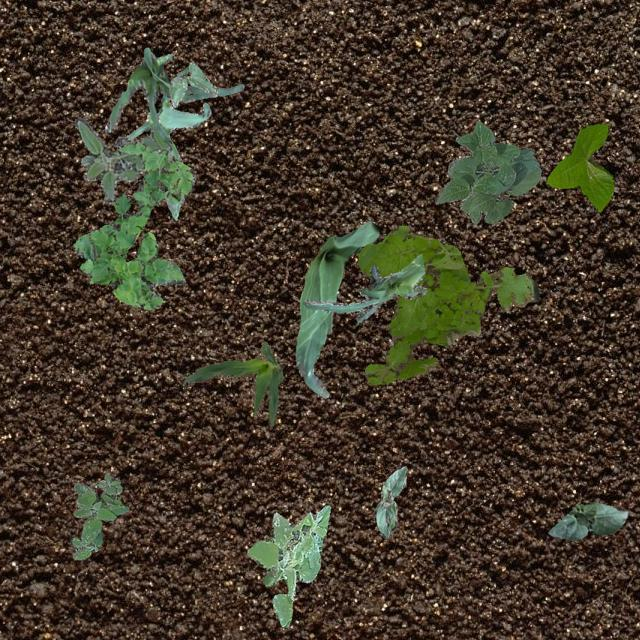crop: (294, 220, 378, 398), (104, 46, 242, 140), (127, 66, 210, 218), (434, 120, 540, 222), (180, 340, 282, 426), (302, 252, 426, 322), (544, 122, 612, 210), (546, 500, 628, 540), (374, 466, 406, 538), (168, 62, 216, 106)
weed: (356, 224, 538, 384), (72, 134, 194, 308), (246, 504, 330, 626), (74, 116, 176, 202), (70, 472, 128, 558)
